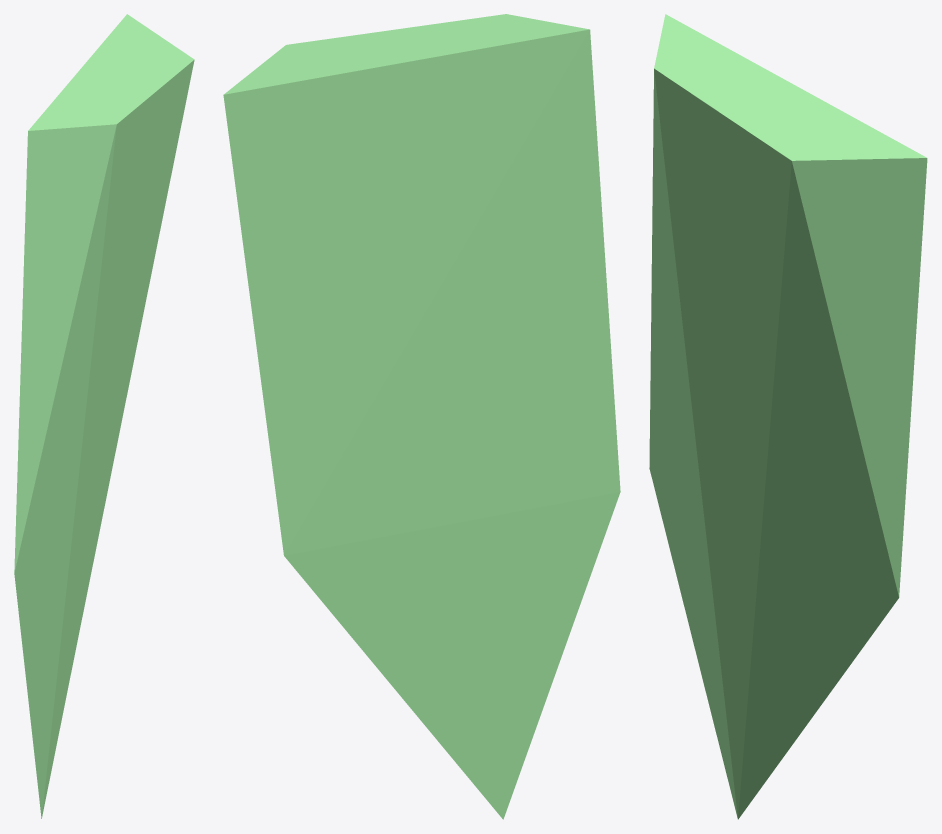
File: UMIRobot_UMIRobot_link_4_convex_coll_1.dae
The picture shows the model from 3 angles, left to right: view 1: azimuth 30°, elevation 25°; view 2: azimuth 150°, elevation 25°; view 3: azimuth 270°, elevation 25°; orthographic projection. The views are drawn at different scales.
Parts seen in each view (by area): view 1: node; view 2: node; view 3: node.
Part boxes in pixels (x1=…): node: x1=14, y1=14, x2=194, y2=818; node: x1=223, y1=14, x2=620, y2=819; node: x1=649, y1=14, x2=927, y2=819.
Size of the model in its own units: 0.00895 by 0.0252 by 0.00812.
